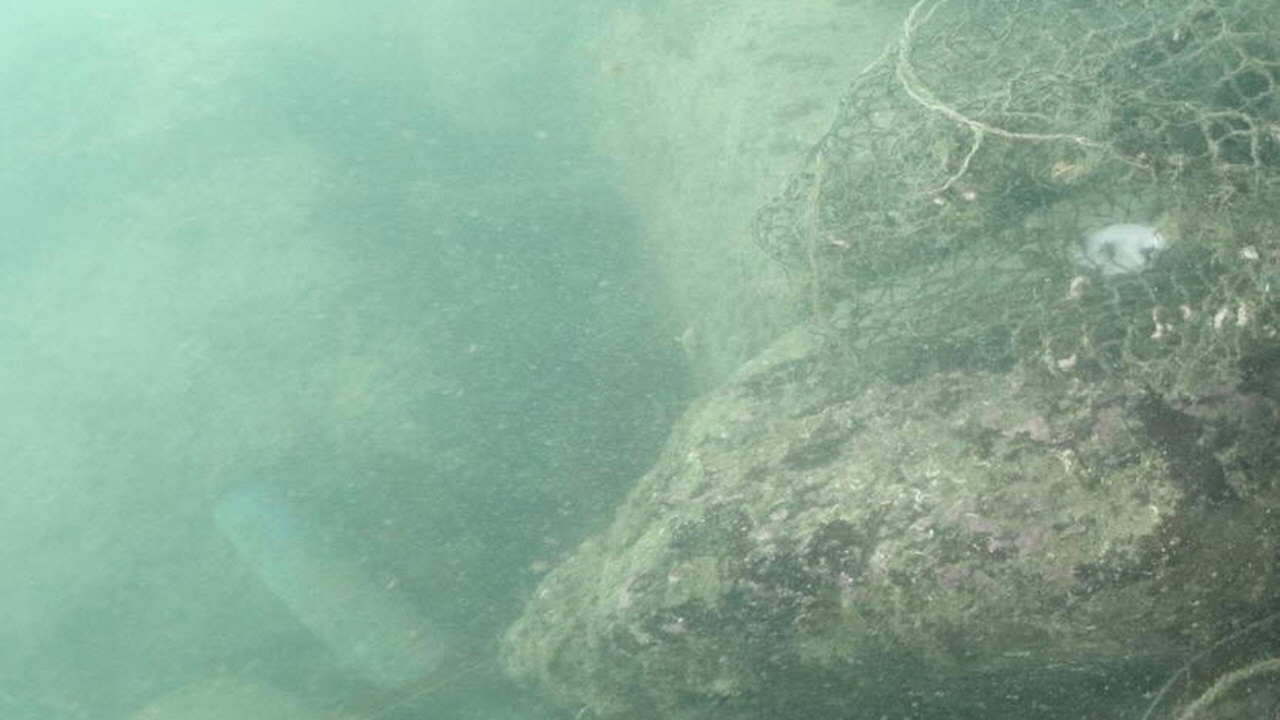fish net: (752, 0, 1280, 379)
